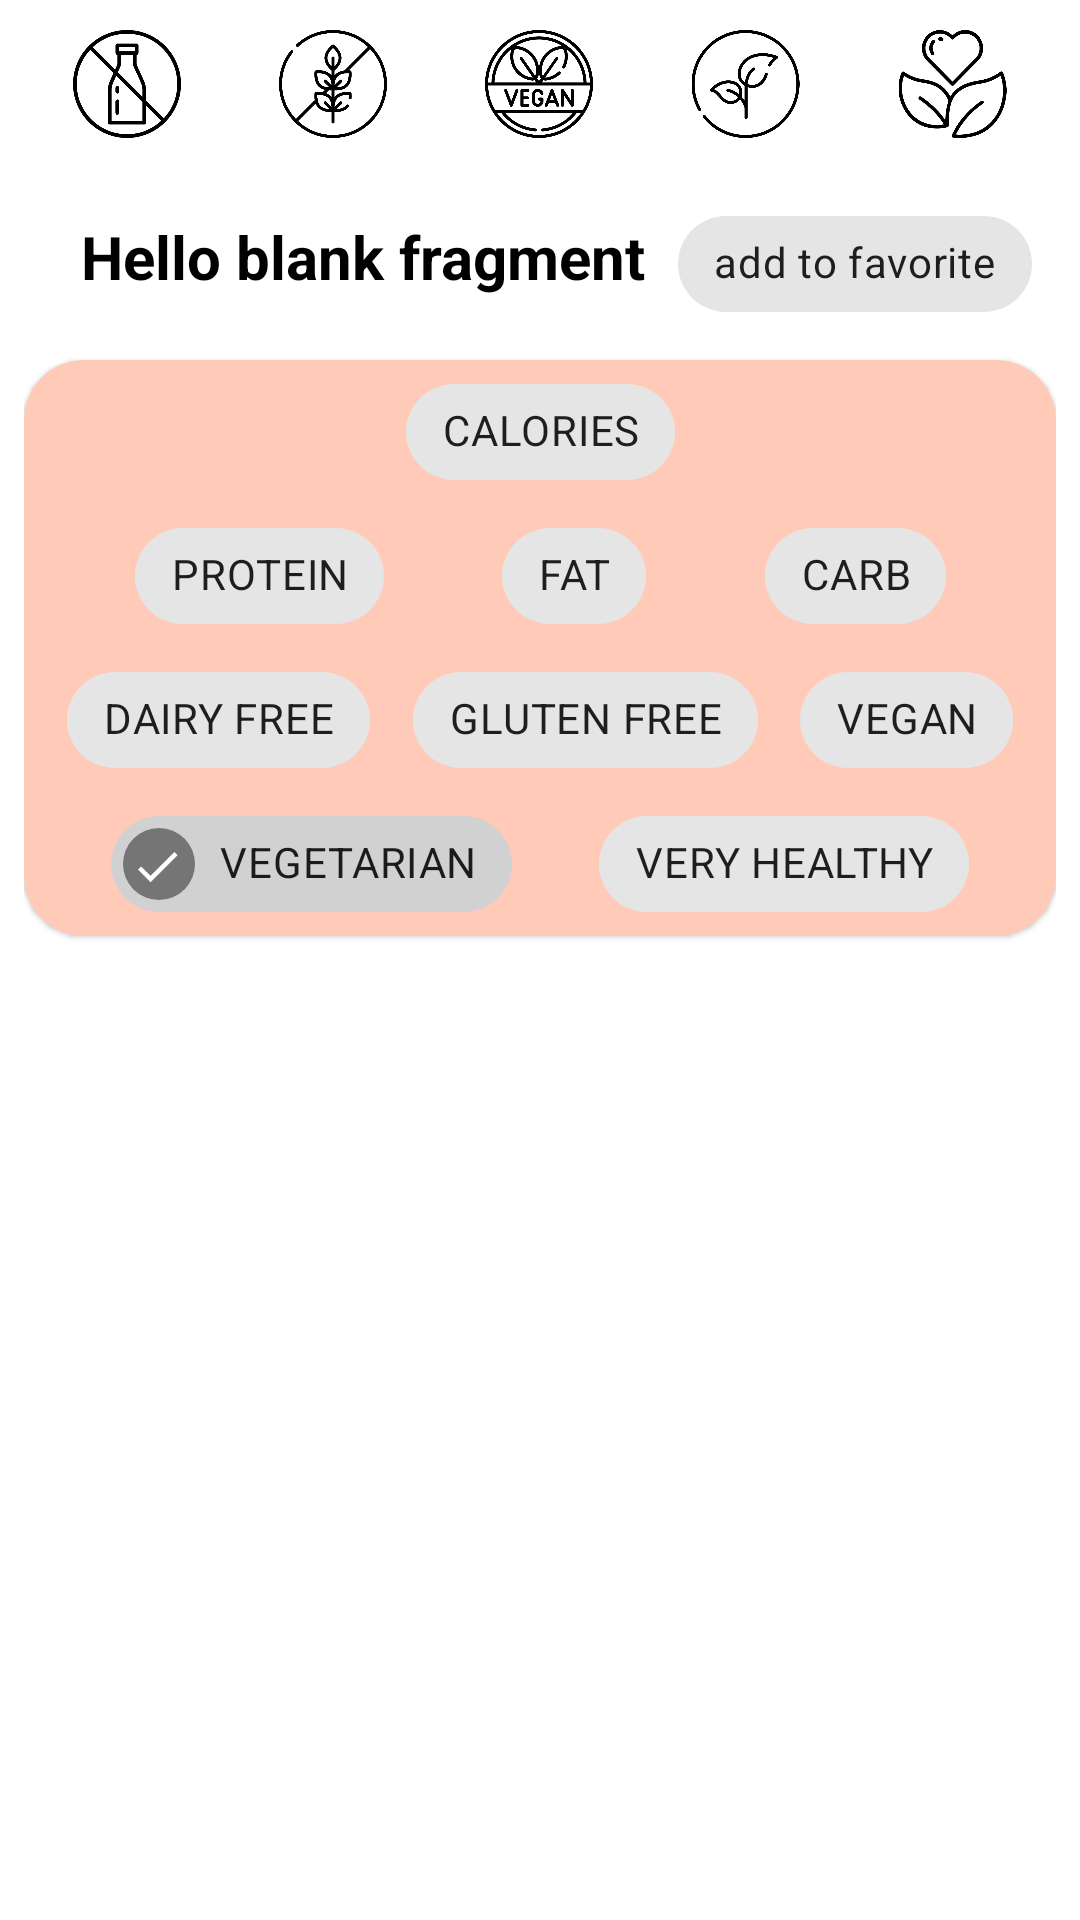

Where to tap for icons on this 1080*1920 app screen, as (x=x, y=y):
dairy free: (x=127, y=84)
gluten free: (x=333, y=84)
healthy food: (x=953, y=84)
vegetarian: (x=746, y=84)
